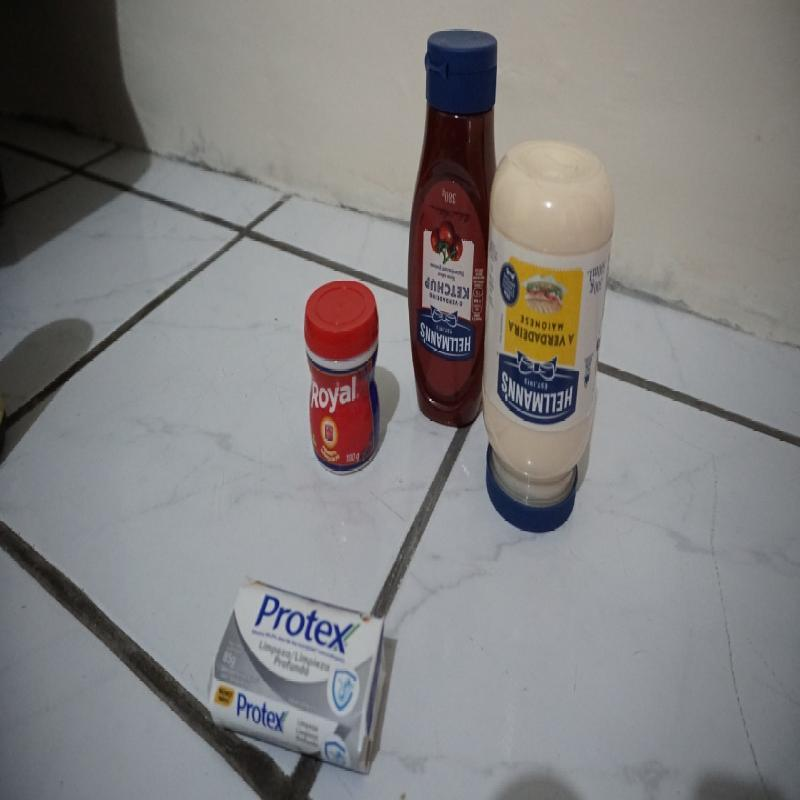Ketchup: (409, 27, 484, 430)
Mayonnaise: (488, 141, 615, 533)
Soap: (210, 575, 386, 766)
Yeast: (301, 276, 382, 470)
